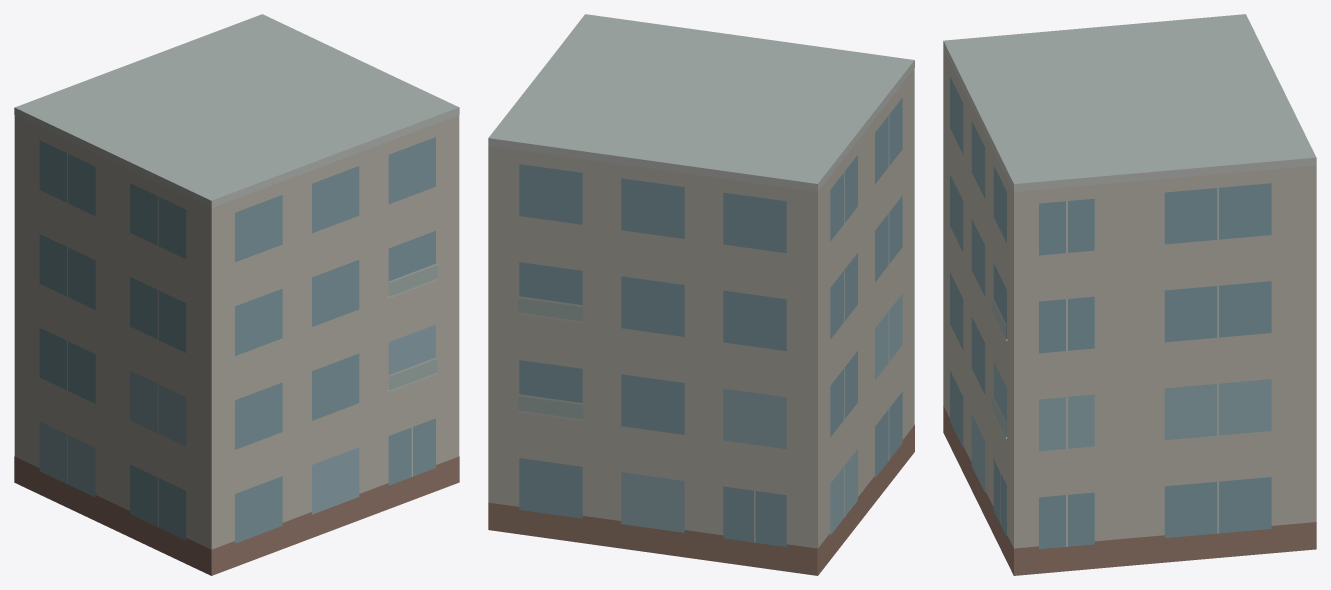
The model's file is residential-12ba2e76-1bae-405d-8206-f00fc8d199b5.glb.
The picture shows the model from 3 angles, left to right: view 1: azimuth 30°, elevation 25°; view 2: azimuth 150°, elevation 25°; view 3: azimuth 270°, elevation 25°; orthographic projection. The views are drawn at different scales.
Parts seen in each view (by area): view 1: residential-12ba2e76-1bae-405d-8206-f00fc8d199b5.tmp; view 2: residential-12ba2e76-1bae-405d-8206-f00fc8d199b5.tmp; view 3: residential-12ba2e76-1bae-405d-8206-f00fc8d199b5.tmp.
Part boxes in pixels (x1=…): residential-12ba2e76-1bae-405d-8206-f00fc8d199b5.tmp: x1=14, y1=14, x2=459, y2=575; residential-12ba2e76-1bae-405d-8206-f00fc8d199b5.tmp: x1=488, y1=14, x2=914, y2=575; residential-12ba2e76-1bae-405d-8206-f00fc8d199b5.tmp: x1=943, y1=14, x2=1316, y2=575.
Bounding box in the file's own units: 11.37 × 12.2 × 10.54.
